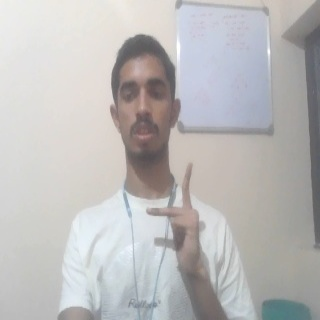Okay: (145, 160, 207, 280)
